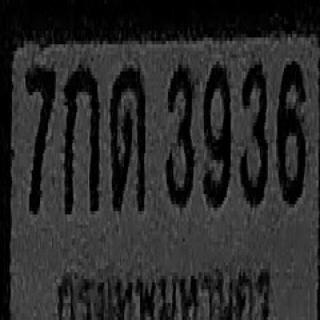A01: (63, 63, 99, 213)
A20: (110, 65, 146, 208)
N03: (239, 59, 267, 202), (165, 63, 193, 206)
N06: (277, 59, 305, 202)
N07: (25, 63, 55, 213)
N09: (203, 63, 231, 206)
